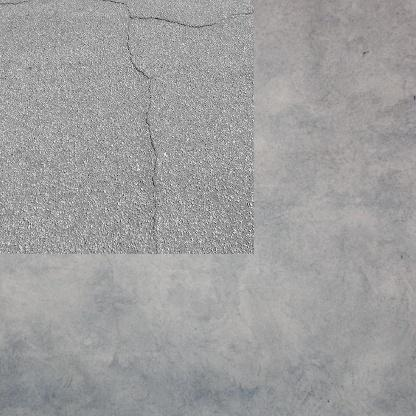Cracks: (0, 0, 234, 235)
